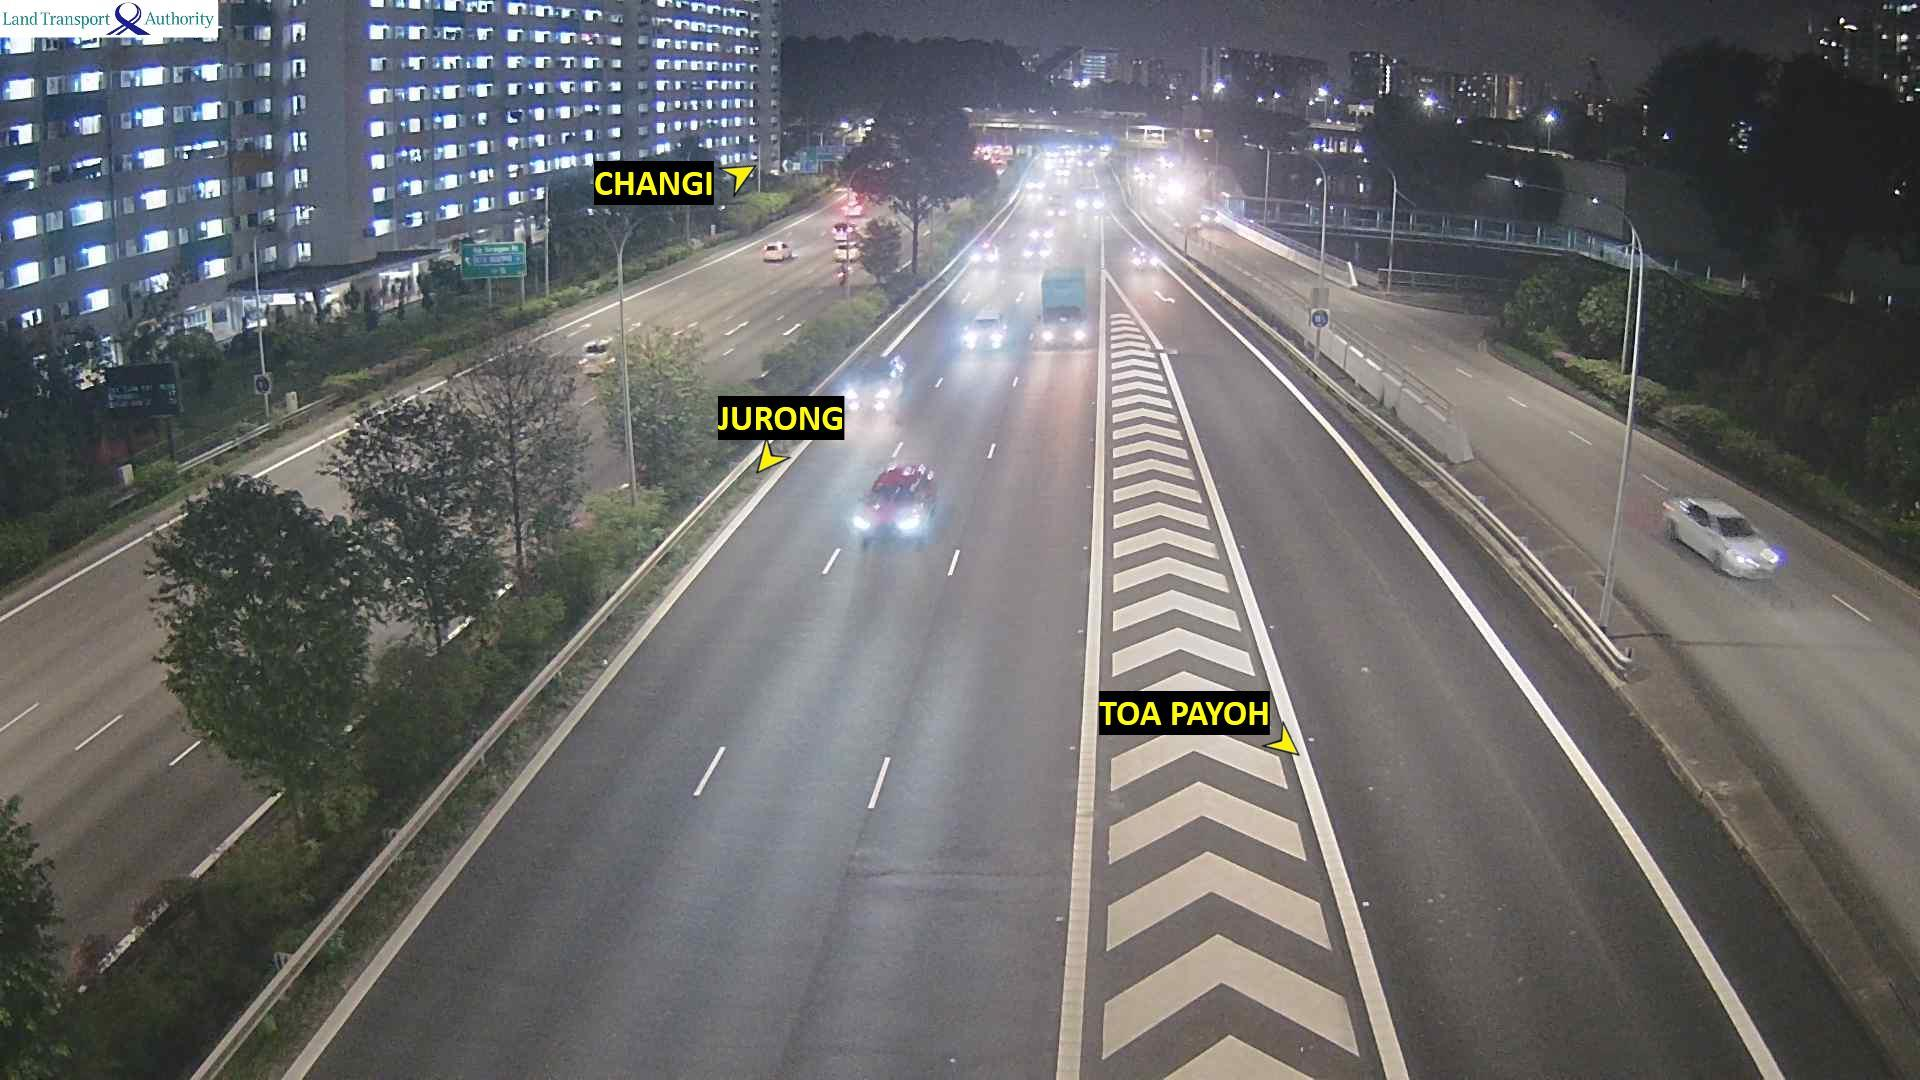incoming: (1710, 506, 1788, 588), (851, 468, 935, 543), (844, 363, 906, 402), (1038, 305, 1089, 352), (957, 316, 1009, 349), (969, 239, 1002, 270), (1075, 189, 1110, 216), (1019, 237, 1052, 261), (1131, 248, 1156, 268), (1044, 199, 1069, 219), (1200, 208, 1224, 225), (1026, 175, 1047, 193)
